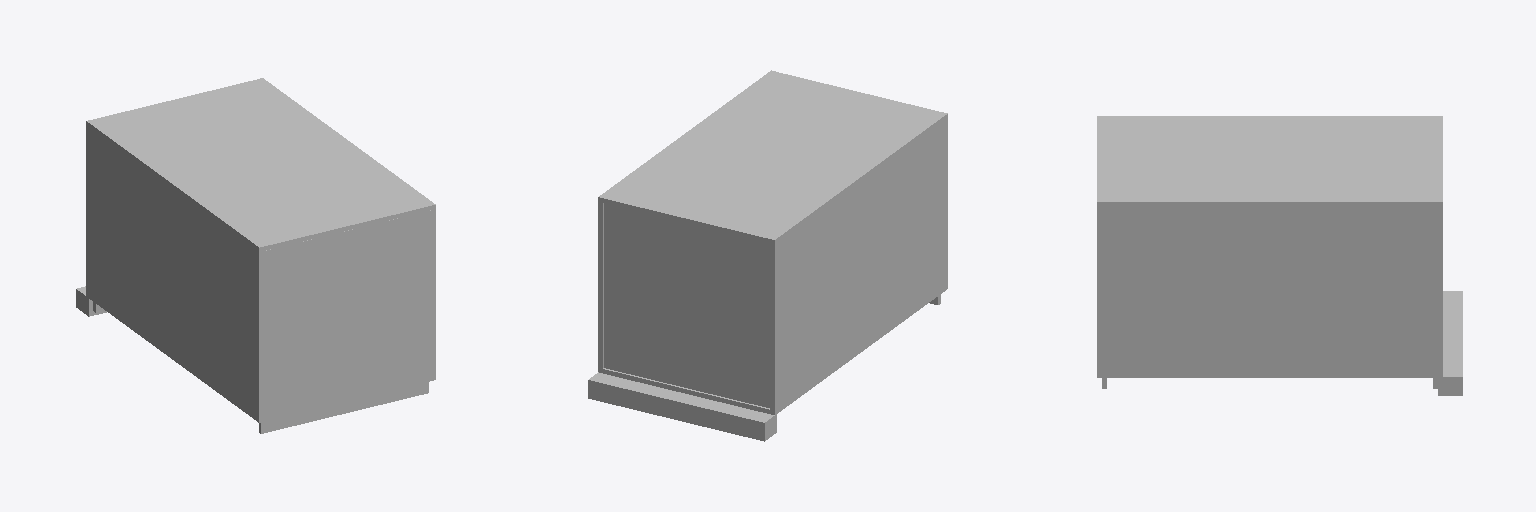
Rendered from brigbedbox.obj.
3 views of the same model, side by side, from view 1: azimuth 30°, elevation 25°; view 2: azimuth 150°, elevation 25°; view 3: azimuth 270°, elevation 25° (orthographic).
Parts seen in each view (by area): view 1: #translucent_mudAcc_main, ford_box.obj.001; view 2: #translucent_mudAcc_main, ford_box.obj.001, ford_box.obj.017_selection; view 3: #translucent_mudAcc_main, ford_box.obj.001.
Part boxes in pixels (x1,y1,x2,y2): #translucent_mudAcc_main: (76, 78, 435, 433); ford_box.obj.001: (92, 79, 430, 312); #translucent_mudAcc_main: (588, 70, 947, 441); ford_box.obj.001: (603, 72, 942, 409); ford_box.obj.017_selection: (604, 203, 769, 407); #translucent_mudAcc_main: (1097, 116, 1462, 395); ford_box.obj.001: (1097, 118, 1442, 388).
Bounding box in the file's own units: 2.5 × 2.63 × 4.5.